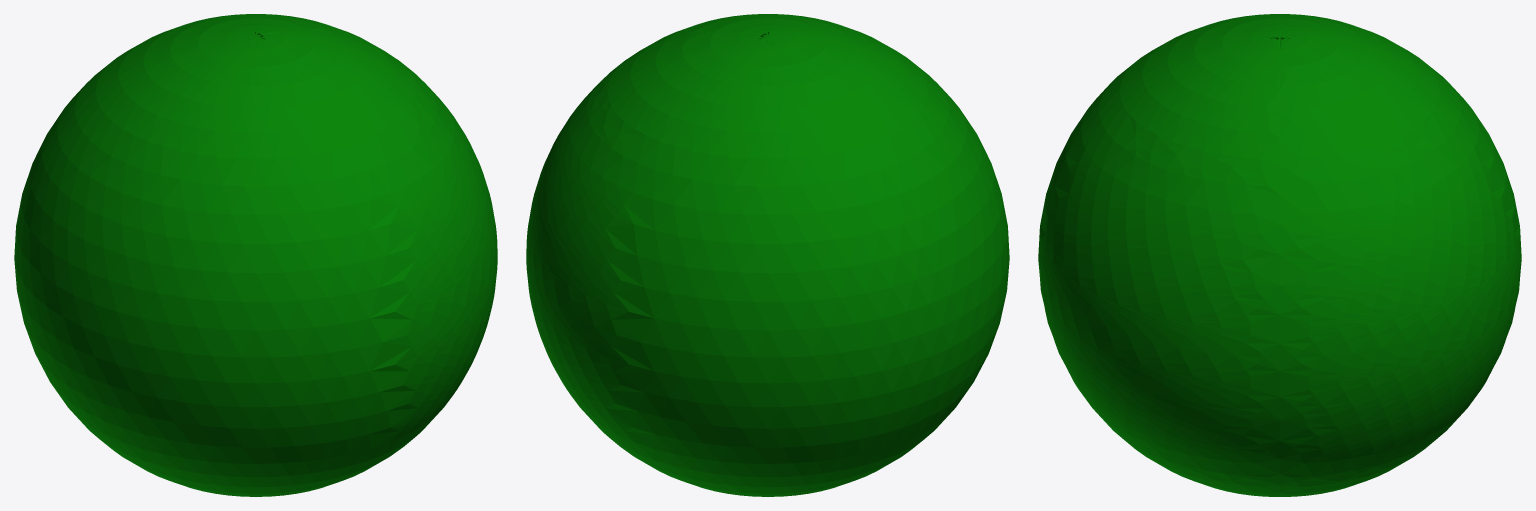
File: bola_dia_1m.dae
3 views of the same model, side by side, from view 1: azimuth 30°, elevation 25°; view 2: azimuth 150°, elevation 25°; view 3: azimuth 270°, elevation 25° (orthographic).
Parts seen in each view (by area): view 1: skpBKWXhw; view 2: skpBKWXhw; view 3: skpBKWXhw.
Part boxes in pixels (box(x1,y1,x2,y2)): skpBKWXhw: box(14, 14, 497, 496); skpBKWXhw: box(526, 14, 1009, 496); skpBKWXhw: box(1038, 14, 1521, 496).
Size of the model in its own units: 39.33 by 39.35 by 39.37.
